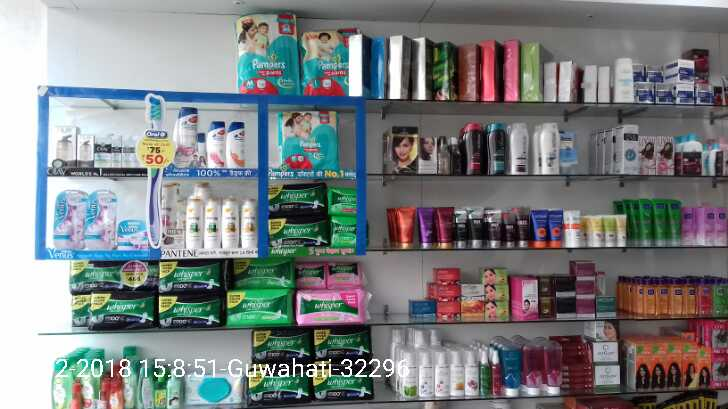venus: (52, 189, 88, 249), (88, 189, 117, 249), (117, 221, 147, 249)
